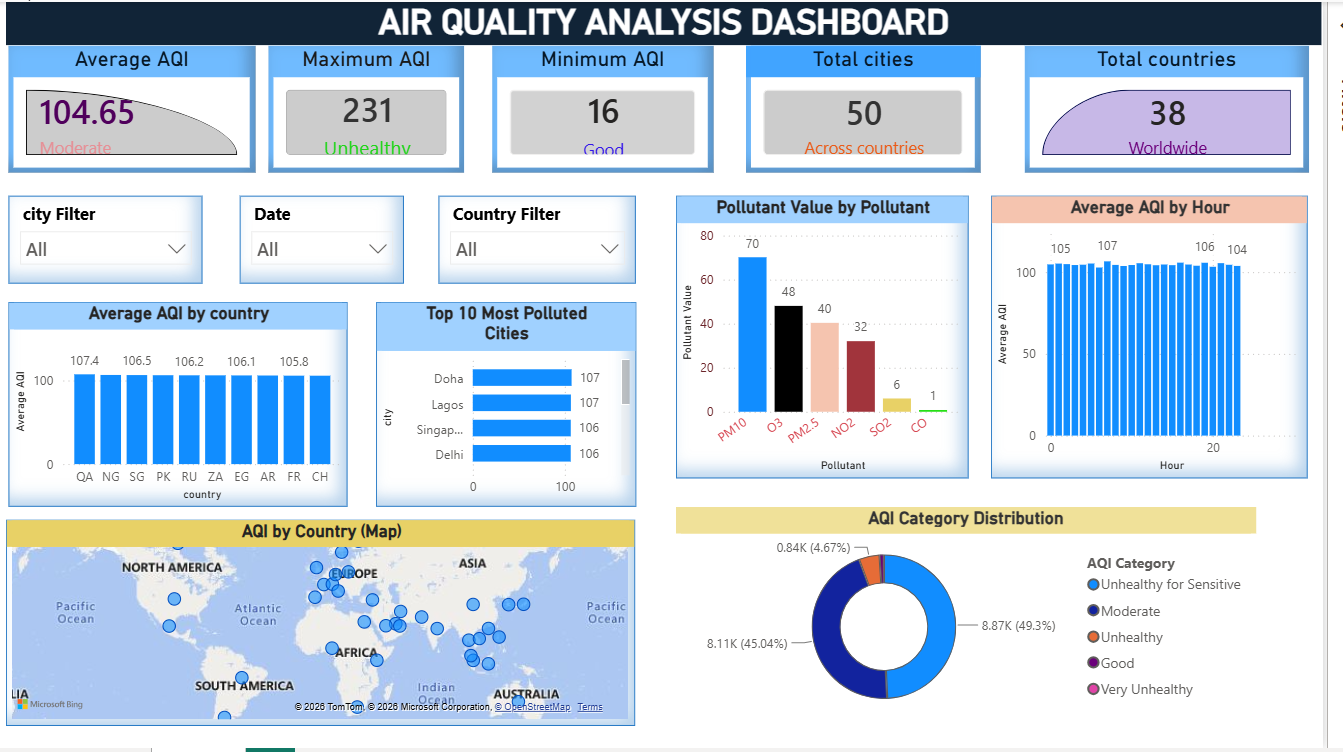

The page's visual inventory and layout, read from the dashboard file:
{"tool":"powerbi","page":{"name":"Page 1","canvas":[1280,720],"ordinal":0},"visuals":[{"type":"textbox","title":"AIR QUALITY ANALYSIS DASHBOARD","box":[10.1,0,1269.6,41.8],"z":0},{"type":"cardVisual","title":"Average AQI","fields":{"Data":["Air Quality.Average AQI"]},"box":[11.5,41.8,238.1,122.6],"z":1000},{"type":"cardVisual","title":"Maximum AQI","fields":{"Data":["Air Quality.Maximum AQI"]},"box":[262.6,41.8,189,122.6],"z":2000},{"type":"cardVisual","title":"Minimum AQI","fields":{"Data":["Air Quality.Minimum AQI"]},"box":[479,41.8,213.5,122.6],"z":3000},{"type":"cardVisual","title":"Total cities","fields":{"Data":["Air Quality.Total Cities"]},"box":[724.3,41.8,226.5,122.6],"z":4000},{"type":"cardVisual","title":"Total countries","fields":{"Data":["Air Quality.Total Countries"]},"box":[992.6,41.8,274.1,122.6],"z":5000},{"type":"slicer","fields":{"Values":["Air Quality.city"]},"box":[11.5,187.6,187.6,85.1],"z":6000},{"type":"slicer","fields":{"Values":["Air Quality.country"]},"box":[427.1,187.6,190.4,85.1],"z":7000},{"type":"slicer","fields":{"Values":["Air Quality.Date"]},"box":[235.2,187.6,158.7,85.1],"z":8000},{"type":"clusteredColumnChart","fields":{"Category":["Air Quality.country"],"Y":["Air Quality.Average AQI"]},"box":[11.5,290,327.5,197.7],"z":9000},{"type":"clusteredBarChart","title":"Top 10 Most Polluted Cities","fields":{"Category":["Air Quality.city"],"Y":["Air Quality.Average AQI"]},"box":[366.5,290,251,197.7],"z":10000},{"type":"clusteredColumnChart","fields":{"Category":["Pollutants.Pollutant"],"Y":["Pollutants.Pollutant Value"]},"box":[656.5,187.6,282.8,272.7],"z":11000},{"type":"map","title":"AQI by Country (Map)","fields":{"Category":["Air Quality.country"],"Size":["Air Quality.Average AQI"]},"box":[10.1,499.2,607.4,199.1],"z":12000},{"type":"lineStackedColumnComboChart","title":"Average AQI by Hour","fields":{"Category":["Air Quality.Hour"],"Y":["Air Quality.Average AQI"]},"box":[960.9,187.6,305.9,272.7],"z":13000},{"type":"donutChart","title":"AQI Category Distribution","fields":{"Category":["Air Quality.AQI Category"],"Y":["CountNonNull(Air Quality.AQI Category)"]},"box":[656.5,487.7,559.8,210.6],"z":14000}]}

Visuals, with their boxes in screenshot pixels (x1, y1, x2, y2), scaled from the page's 1280x720 canvas onto the 1343x752 screenshot:
"AIR QUALITY ANALYSIS DASHBOARD" textbox: bbox=(11, 0, 1342, 44)
"Average AQI" cardVisual: bbox=(12, 44, 262, 172)
"Maximum AQI" cardVisual: bbox=(276, 44, 474, 172)
"Minimum AQI" cardVisual: bbox=(503, 44, 727, 172)
"Total cities" cardVisual: bbox=(760, 44, 998, 172)
"Total countries" cardVisual: bbox=(1041, 44, 1329, 172)
slicer - Air Quality.city: bbox=(12, 196, 209, 285)
slicer - Air Quality.country: bbox=(448, 196, 648, 285)
slicer - Air Quality.Date: bbox=(247, 196, 413, 285)
clusteredColumnChart - Air Quality.country x Air Quality.Average AQI: bbox=(12, 303, 356, 509)
"Top 10 Most Polluted Cities" clusteredBarChart: bbox=(385, 303, 648, 509)
clusteredColumnChart - Pollutants.Pollutant x Pollutants.Pollutant Value: bbox=(689, 196, 986, 481)
"AQI by Country (Map)" map: bbox=(11, 521, 648, 729)
"Average AQI by Hour" lineStackedColumnComboChart: bbox=(1008, 196, 1329, 481)
"AQI Category Distribution" donutChart: bbox=(689, 509, 1276, 729)
